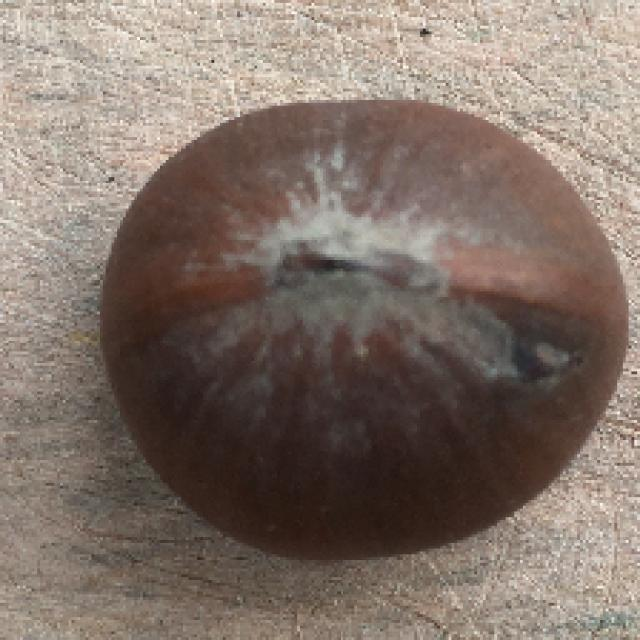qualityHazelnut: (98, 97, 640, 555)
